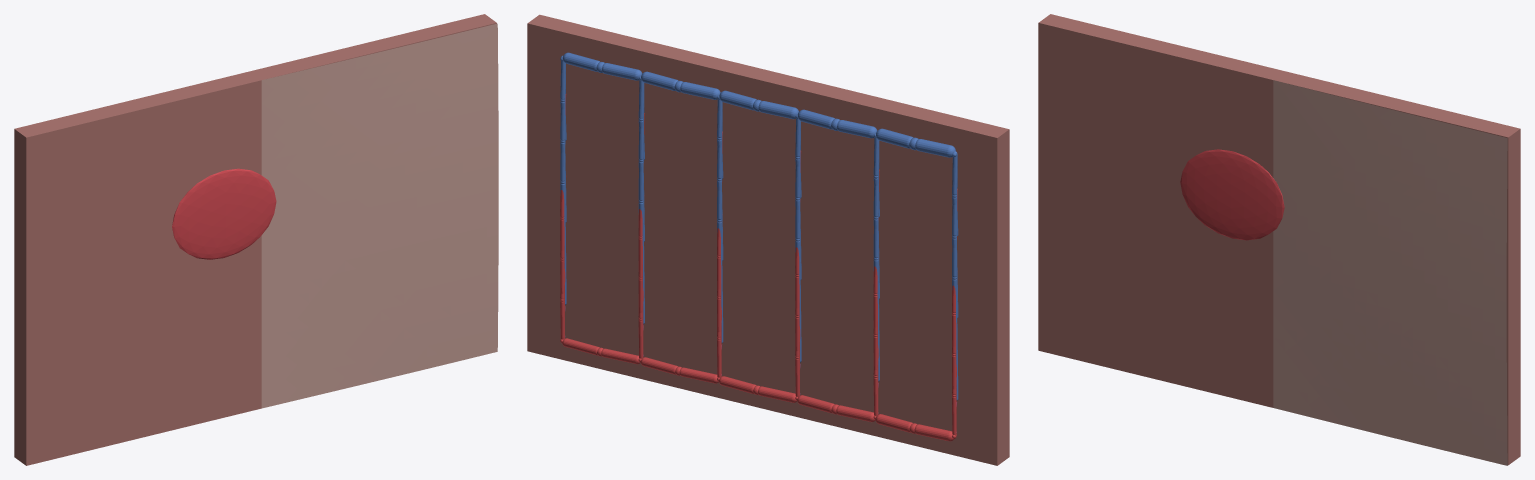
File: dranmar_perfused_tissue_branch_leak.glb
3 views of the same model, side by side, from view 1: azimuth 30°, elevation 25°; view 2: azimuth 150°, elevation 25°; view 3: azimuth 330°, elevation 25° (orthographic).
Visible parts, largest first — view 1: TissueBulk, TissueSurface, Overlay_0; view 2: TissueBulk, VT0, VT1, VT2, VT3, VT4, AT0, AT1, AT2, AT3, AT4, VB05 (+5 smaller); view 3: TissueBulk, TissueSurface, Overlay_0.
Boxes of the visible parts, x1,y1,x2,y2 form: TissueBulk: (14, 14, 496, 465); TissueSurface: (261, 23, 498, 408); Overlay_0: (172, 168, 276, 259); TissueBulk: (527, 14, 1009, 465); VT0: (876, 128, 955, 157); VT1: (797, 109, 877, 138); VT2: (719, 90, 798, 119); VT3: (641, 71, 720, 99); VT4: (562, 52, 642, 80); AT0: (875, 414, 953, 441); AT1: (797, 395, 875, 422); AT2: (719, 376, 796, 402); AT3: (640, 357, 718, 383); AT4: (562, 338, 640, 364); VB05: (560, 63, 566, 304); TissueBulk: (1038, 14, 1520, 465); TissueSurface: (1273, 80, 1507, 465); Overlay_0: (1180, 149, 1284, 240).
Size of the model in its own units: 0.18 by 0.12 by 0.0154.
